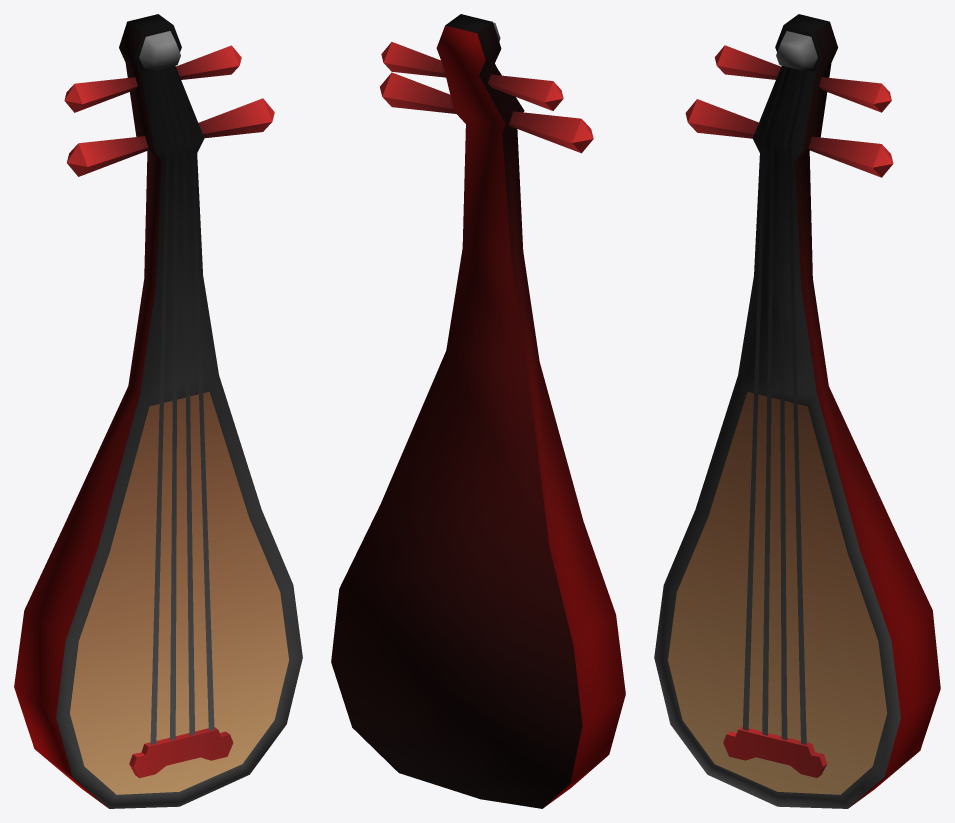
The model's file is SK_Mandolin_001.FBX.
3 renders of one model, left to right at view 1: azimuth 30°, elevation 25°; view 2: azimuth 150°, elevation 25°; view 3: azimuth 330°, elevation 25°, orthographic. The views are drawn at different scales.
Size of the model in its own units: 24.35 by 71.84 by 7.91.
Materials: 1 (1 with a texture image).
